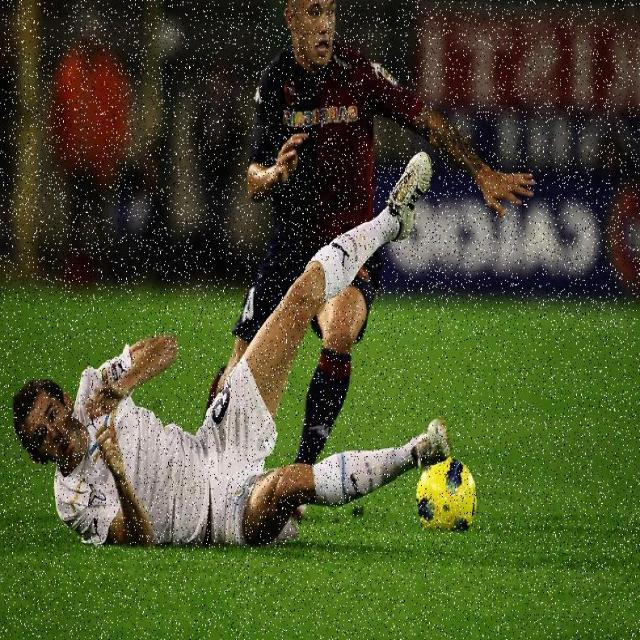fall: (16, 302, 320, 538)
